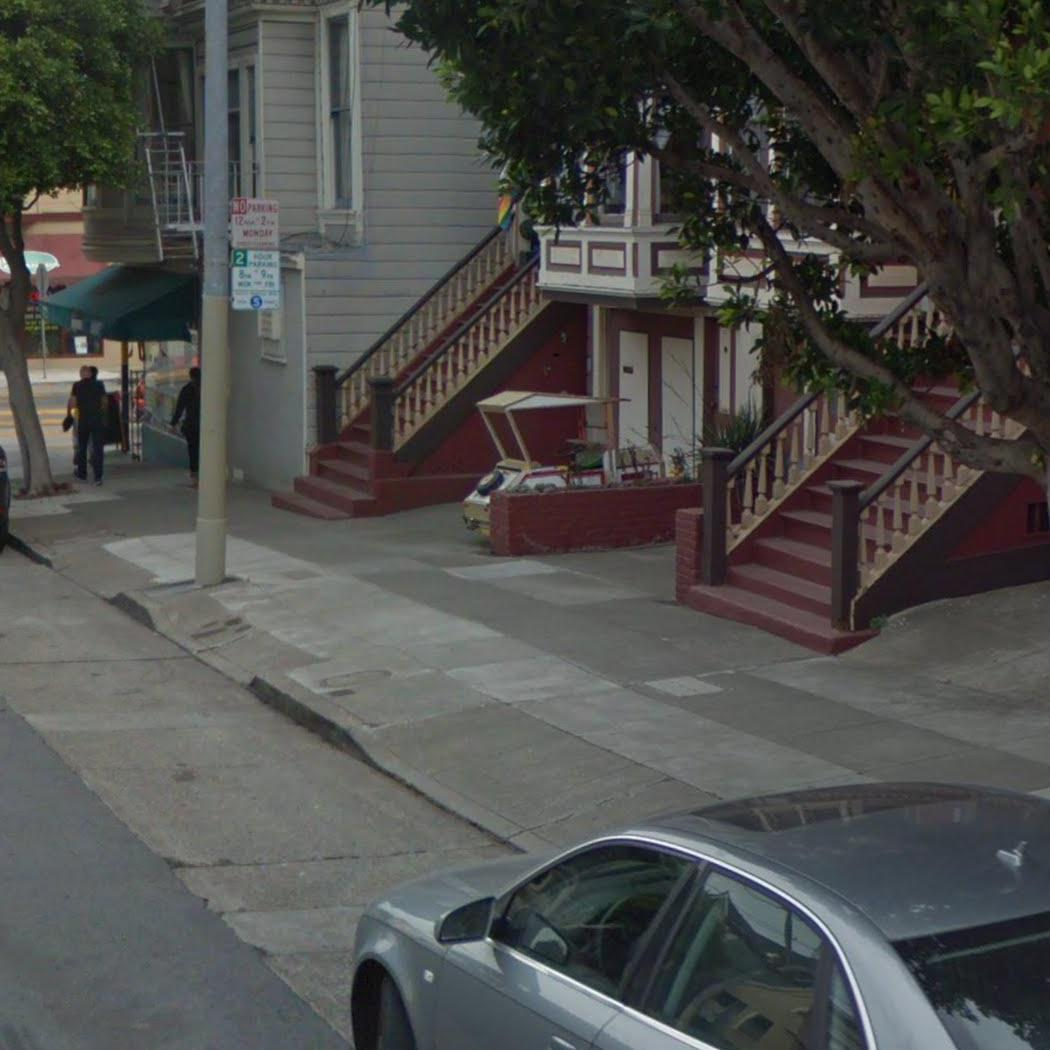2 Hour Parking: (228, 249, 285, 308)
No Parking: (229, 194, 282, 249)
